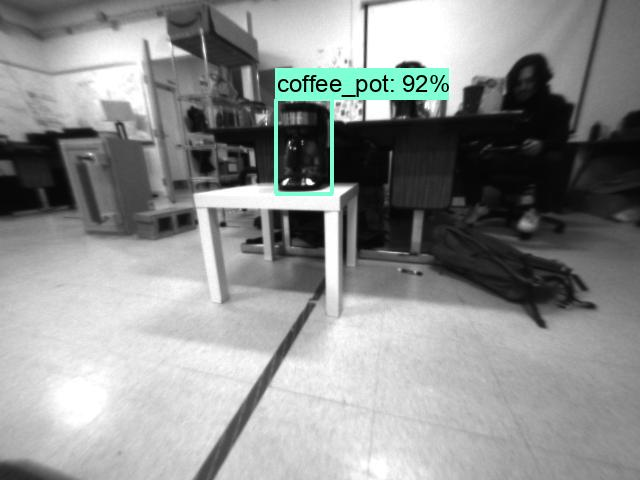coffee_pot: (277, 99, 331, 190)
